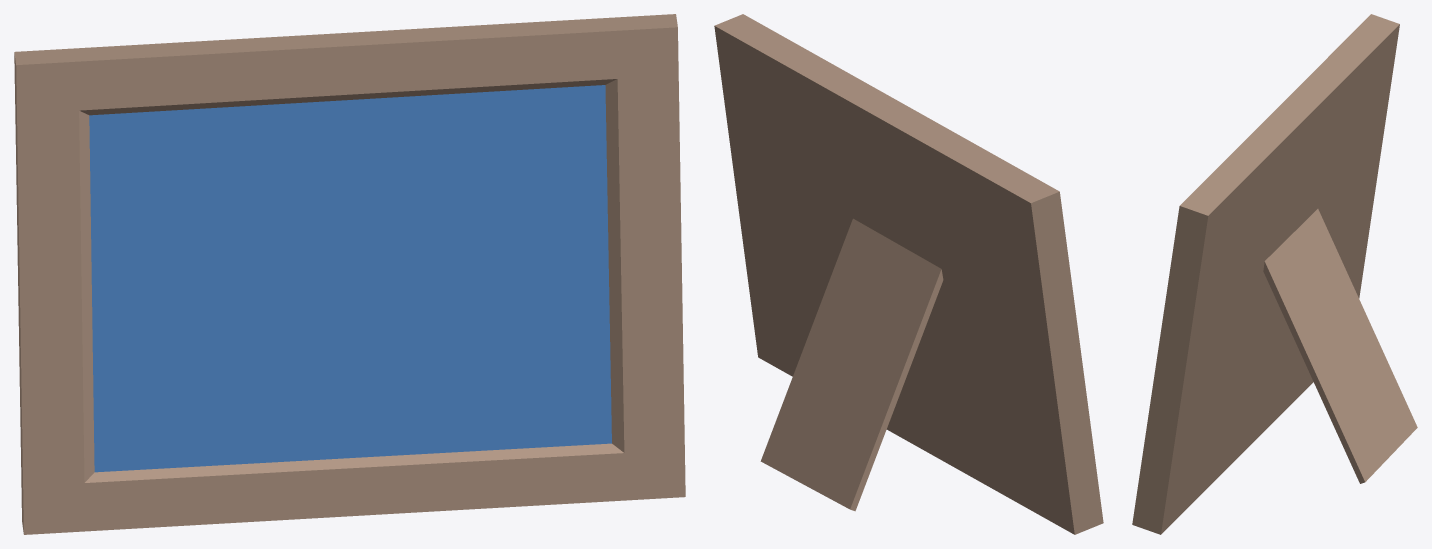
Rendered from Photoframe_6.fbx.
The picture shows the model from 3 angles, left to right: view 1: azimuth 30°, elevation 25°; view 2: azimuth 150°, elevation 25°; view 3: azimuth 270°, elevation 25°; orthographic projection. The views are drawn at different scales.
Parts seen in each view (by area): view 1: Photoframe_6; view 2: Photoframe_6; view 3: Photoframe_6.
Part boxes in pixels (box(x1,y1,x2,y2)): Photoframe_6: box(14, 14, 685, 534); Photoframe_6: box(714, 14, 1103, 534); Photoframe_6: box(1132, 14, 1417, 534).
Size of the model in its own units: 33.42 by 19.34 by 24.9.
